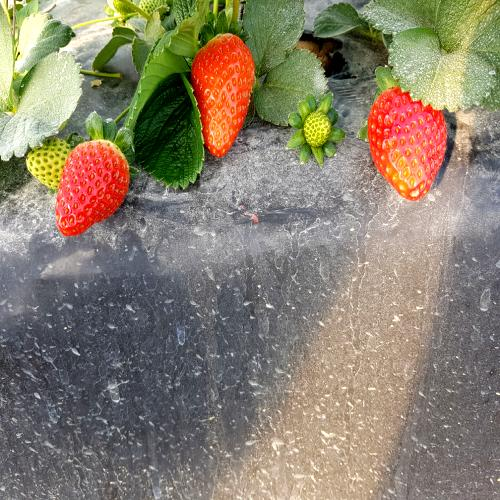ripe: (367, 79, 452, 199), (190, 21, 256, 161), (52, 139, 134, 238)
